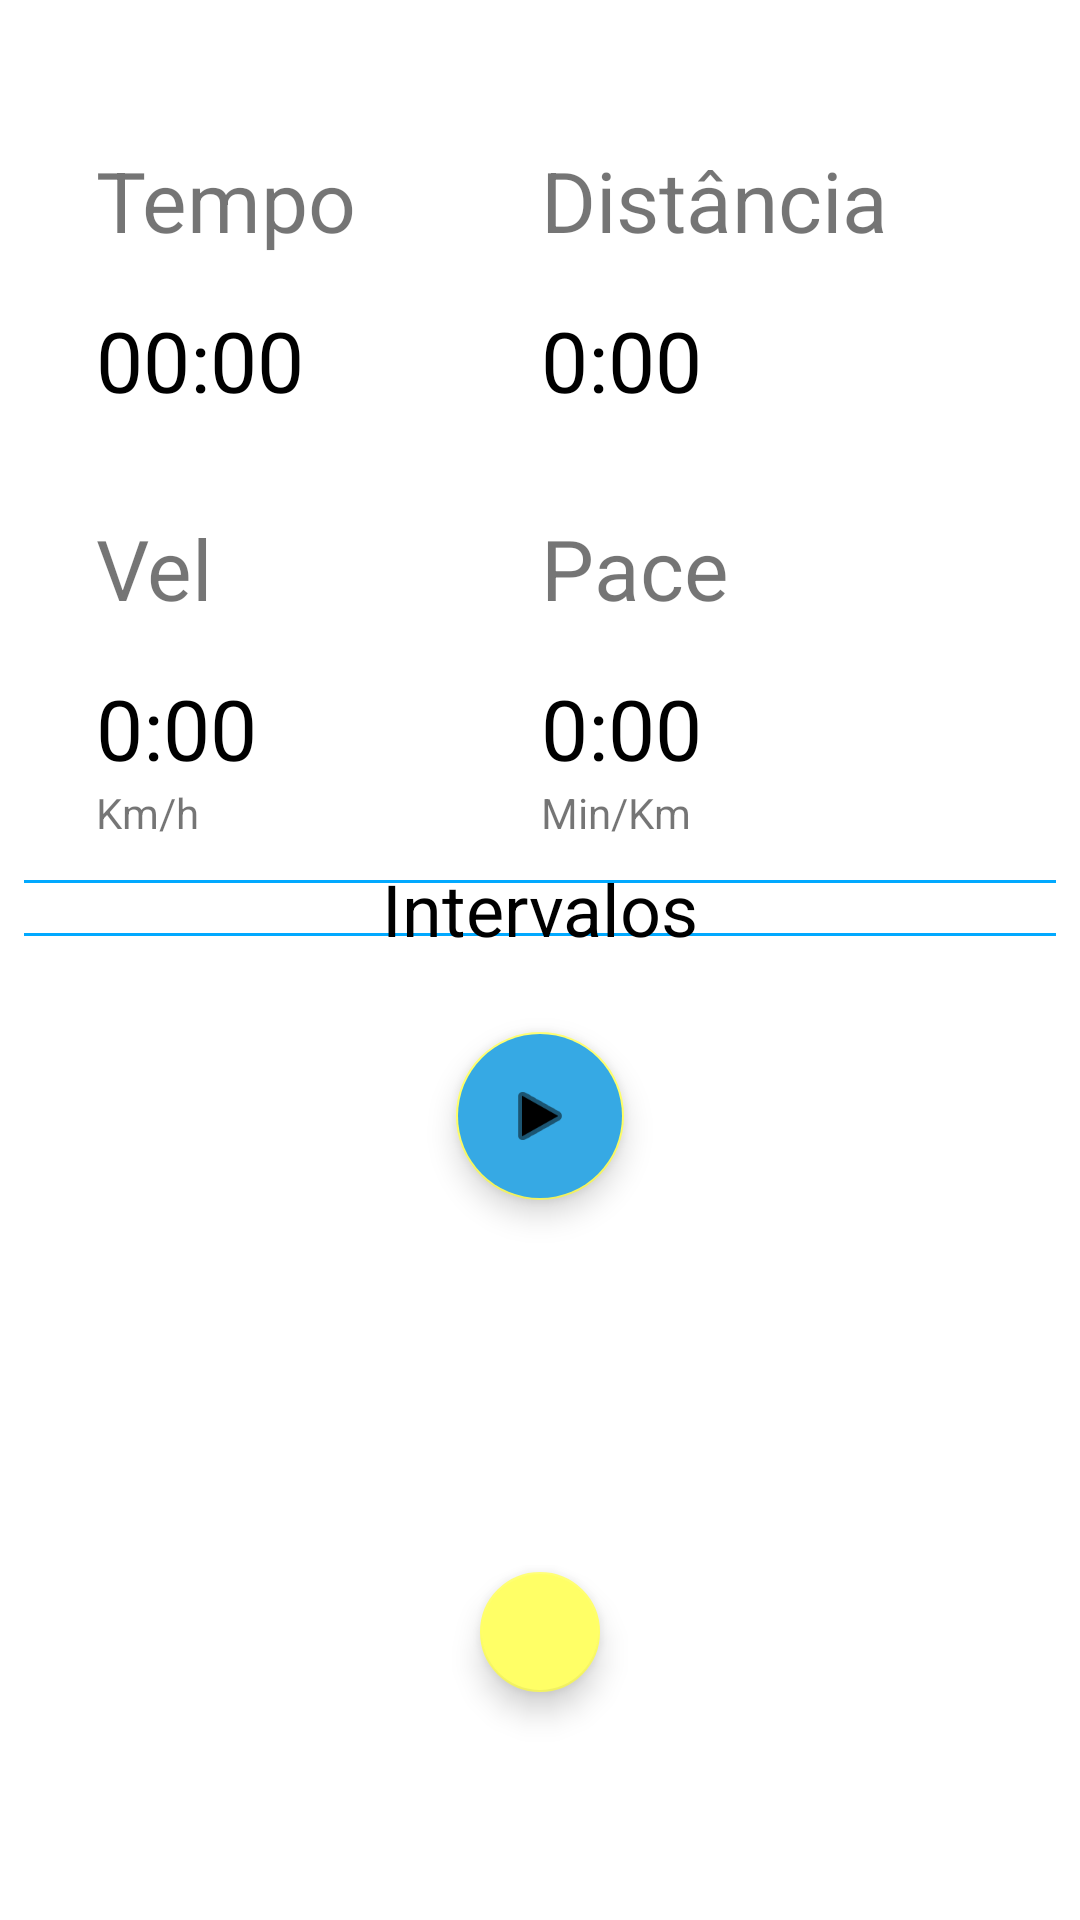

Icons on this 1080*1920 Android screen, each with its box as bbox(x1, y1, x2, y2):
Botão inicia corrida: bbox(456, 1032, 624, 1200)
